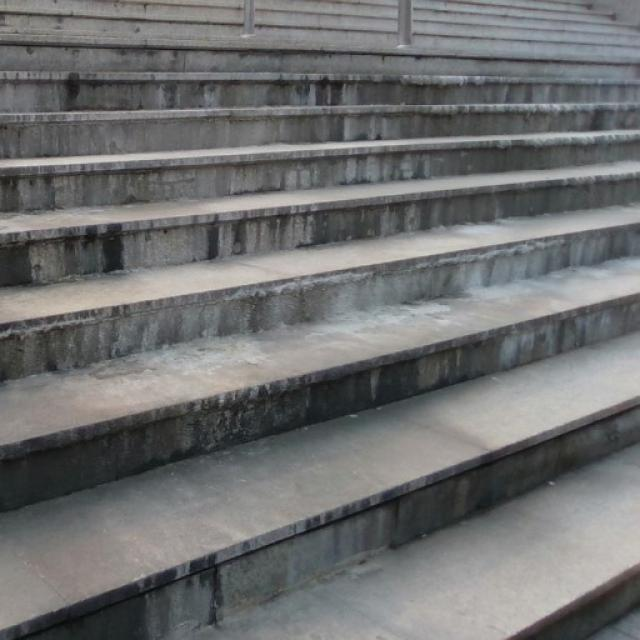stair: (12, 10, 640, 612)
